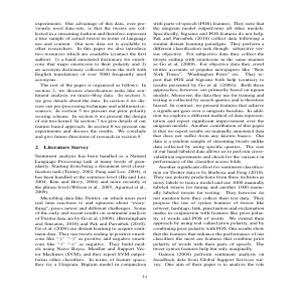text: (149, 20, 267, 270), (32, 21, 147, 269)
